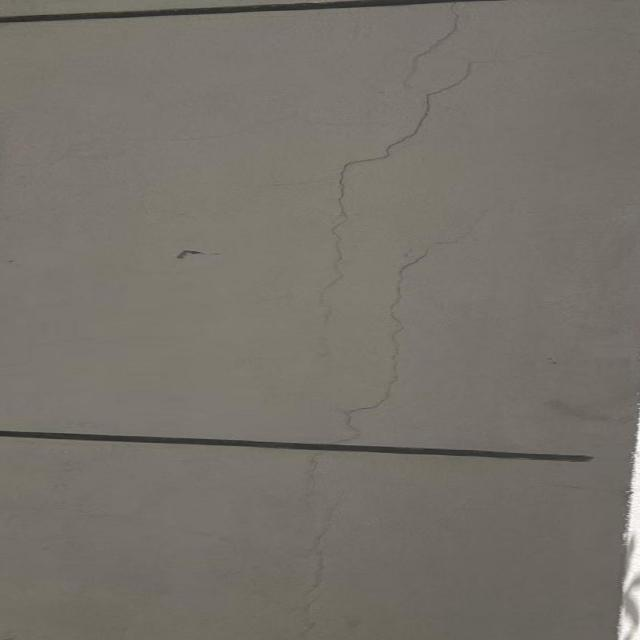crack: (289, 193, 518, 515), (312, 4, 495, 317), (276, 492, 358, 635)
